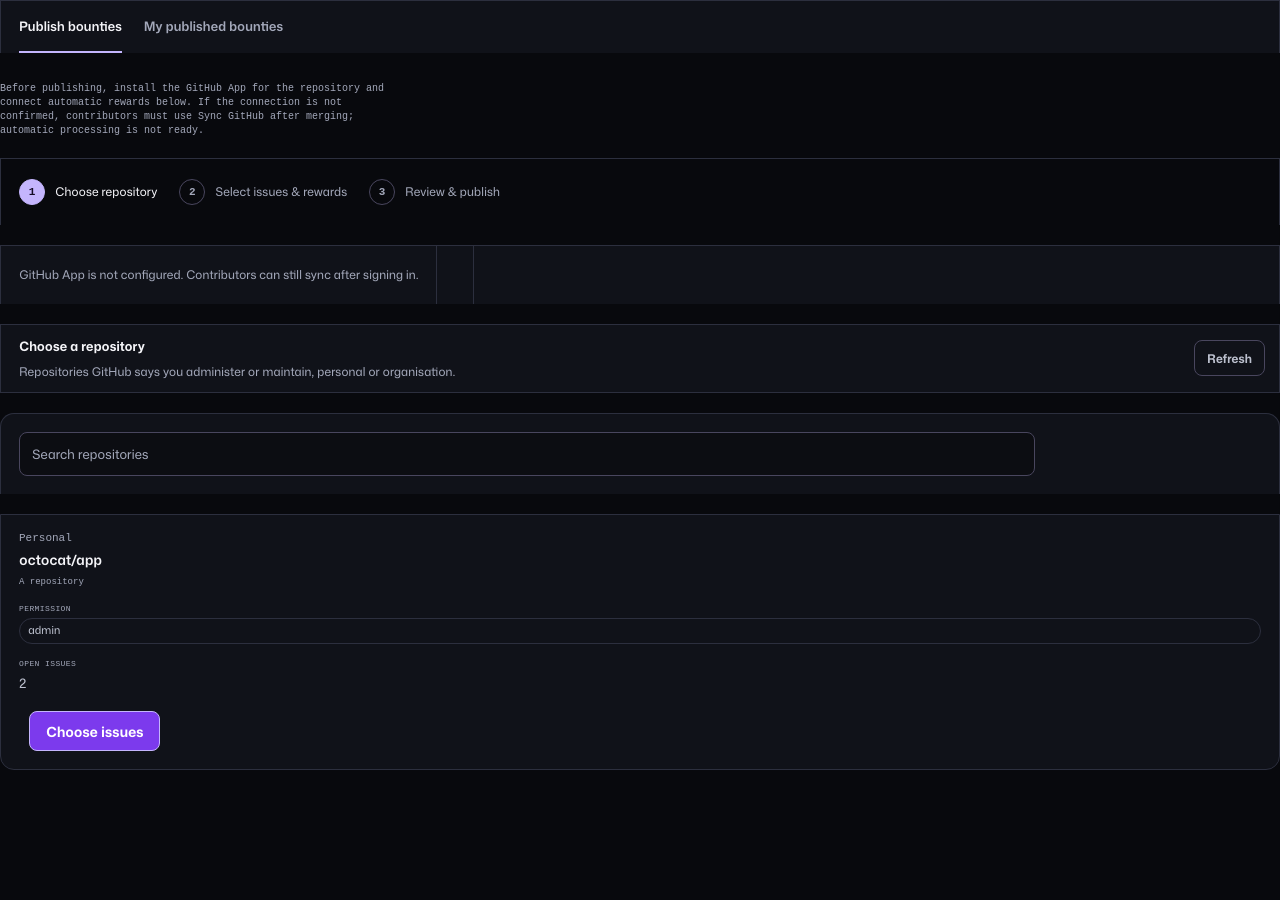
it: choosing issues › shows an existing bounty so a duplicate is never offered
The width and height of the screenshot is (1280, 900).
Click the button "Choose issues": (95, 731) [29,711,160,751]
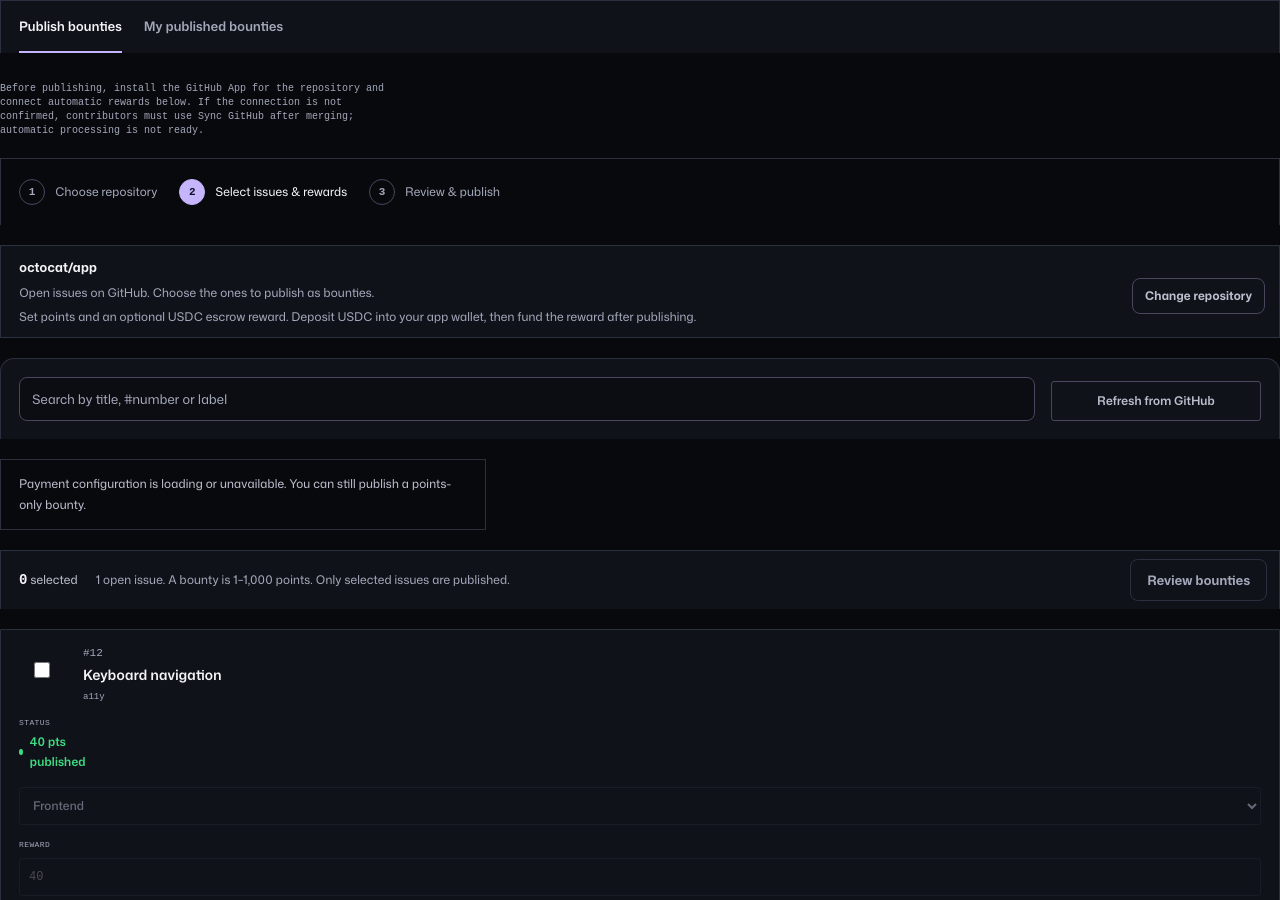
Expected: the link "Keyboard navigation" is shown, [83,665,221,684]
Expected: the text "40 pts published" is shown, [19,732,88,771]
